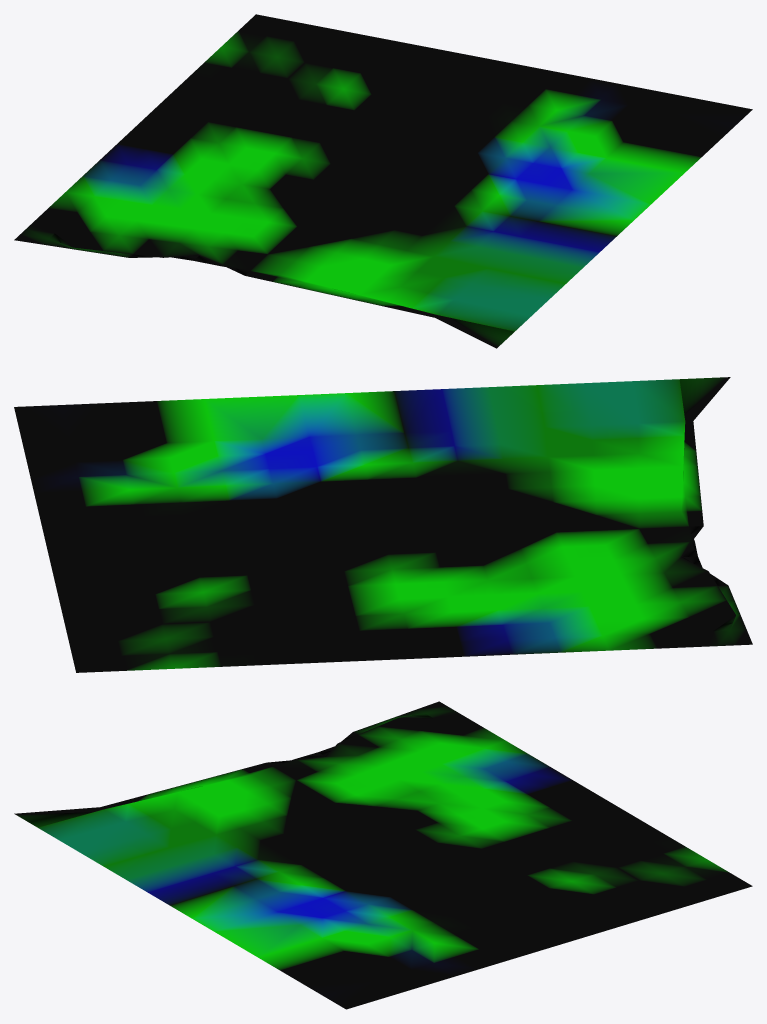
3 views of the same model, one above another, from view 1: azimuth 30°, elevation 25°; view 2: azimuth 150°, elevation 25°; view 3: azimuth 270°, elevation 25° (orthographic). The views are drawn at different scales.
Parts seen in each view (by area): view 1: Sprite; view 2: Sprite; view 3: Sprite.
Part boxes in pixels (x1,y1,x2,y2): Sprite: [14, 14, 752, 348]; Sprite: [14, 377, 752, 672]; Sprite: [14, 701, 752, 1009].
Size of the model in its own units: 1512 by 0.00763 by 1533.
